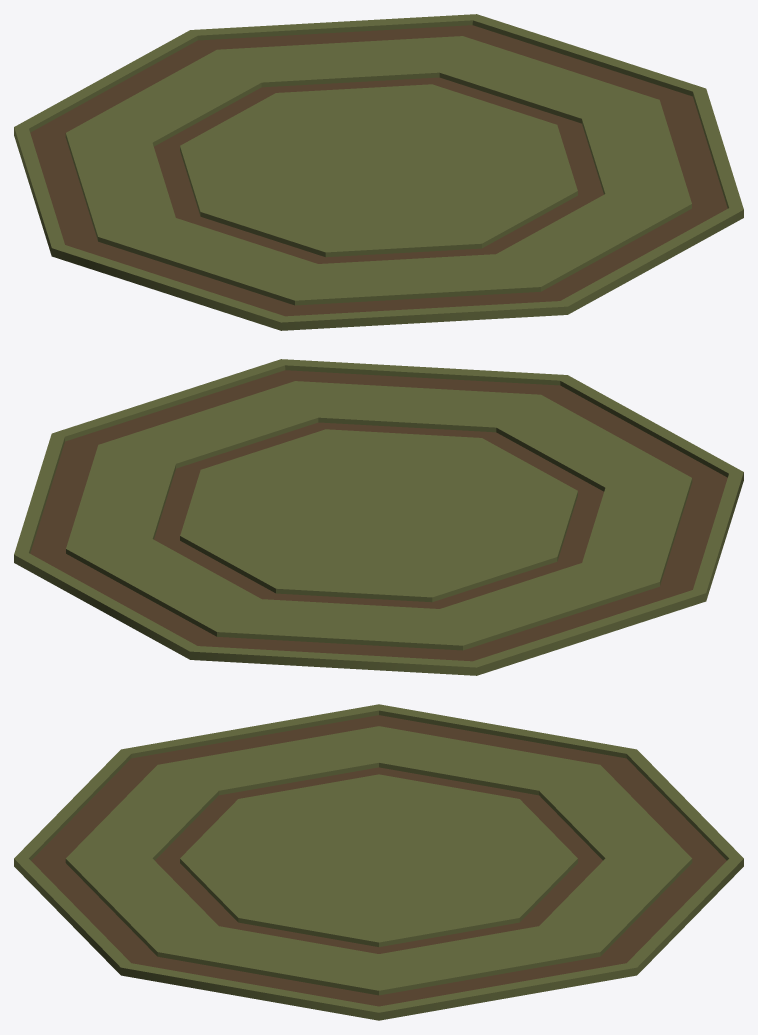
Rendered from Itr_Carpet1_03.FBX.
3 views of the same model, one above another, from view 1: azimuth 30°, elevation 25°; view 2: azimuth 150°, elevation 25°; view 3: azimuth 270°, elevation 25° (orthographic). The views are drawn at different scales.
Visible parts, largest first — view 1: Itr_Carpet1_03; view 2: Itr_Carpet1_03; view 3: Itr_Carpet1_03.
Boxes of the visible parts, <box> form: Itr_Carpet1_03: <box>14,14,743,330</box>; Itr_Carpet1_03: <box>14,359,743,675</box>; Itr_Carpet1_03: <box>14,704,743,1020</box>.
Bounding box in the file's own units: 121 × 1.46 × 121.
